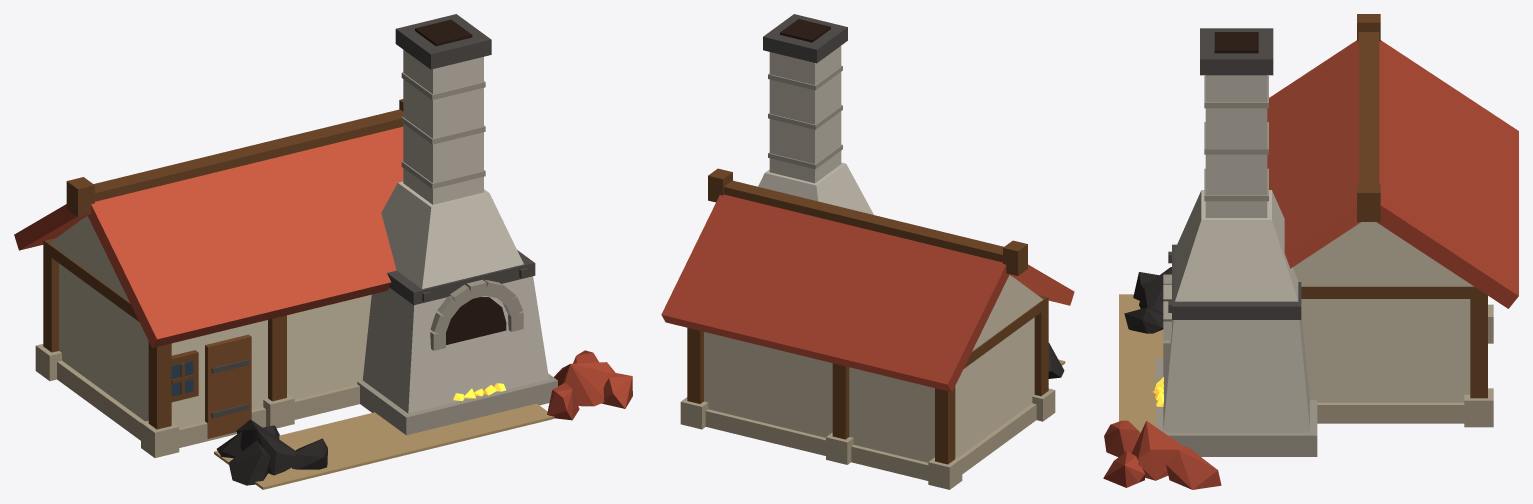
The model's file is smelter.glb.
3 views of the same model, side by side, from view 1: azimuth 30°, elevation 25°; view 2: azimuth 150°, elevation 25°; view 3: azimuth 270°, elevation 25° (orthographic). The views are drawn at different scales.
Visible parts, largest first — view 1: smelter_dach, smelter_ofen, smelter_stein, smelter_balken, smelter_ofen_dunkel, smelter_erde, smelter_stein_dunkel, smelter_eisen, smelter_kohle, smelter_tuer, smelter_erz, smelter_dunkel (+1 smaller); view 2: smelter_dach_dunkel, smelter_stein, smelter_balken, smelter_ofen, smelter_stein_dunkel, smelter_eisen, smelter_ofen_dunkel, smelter_dach, smelter_dunkel; view 3: smelter_ofen, smelter_dach_dunkel, smelter_stein, smelter_dach, smelter_balken, smelter_ofen_dunkel, smelter_eisen, smelter_erz, smelter_stein_dunkel, smelter_erde, smelter_kohle, smelter_dunkel.
Part boxes in pixels (box(x1,y1,x2,y2)): smelter_dach: box(87, 126, 403, 347); smelter_ofen: box(363, 50, 548, 413); smelter_stein: box(49, 216, 371, 427); smelter_balken: box(43, 99, 403, 429); smelter_ofen_dunkel: box(357, 72, 557, 435); smelter_erde: box(214, 403, 554, 489); smelter_stein_dunkel: box(35, 344, 359, 457); smelter_eisen: box(211, 14, 535, 418); smelter_kohle: box(216, 419, 327, 485); smelter_tuer: box(205, 334, 251, 438); smelter_erz: box(547, 350, 632, 420); smelter_dunkel: box(415, 19, 506, 344); smelter_dach_dunkel: box(661, 194, 1009, 392); smelter_stein: box(704, 275, 1042, 462); smelter_balken: box(687, 168, 1048, 464); smelter_ofen: box(758, 46, 873, 214); smelter_stein_dunkel: box(680, 388, 1055, 489); smelter_eisen: box(763, 14, 847, 63); smelter_ofen_dunkel: box(768, 65, 842, 169); smelter_dach: box(1009, 264, 1074, 305); smelter_dunkel: box(780, 19, 830, 42); smelter_ofen: box(1163, 75, 1309, 432); smelter_dach_dunkel: box(1376, 40, 1518, 308); smelter_stein: box(1293, 222, 1473, 402); smelter_dach: box(1267, 40, 1360, 268); smelter_balken: box(1301, 14, 1487, 398); smelter_ofen_dunkel: box(1155, 75, 1317, 456); smelter_eisen: box(1168, 28, 1301, 319); smelter_erz: box(1103, 420, 1221, 489); smelter_stein_dunkel: box(1317, 304, 1493, 427); smelter_erde: box(1119, 294, 1163, 432); smelter_kohle: box(1124, 267, 1171, 333); smelter_dunkel: box(1214, 32, 1258, 53).
Bounding box in the file's own units: 3.7 × 2.83 × 2.83.
